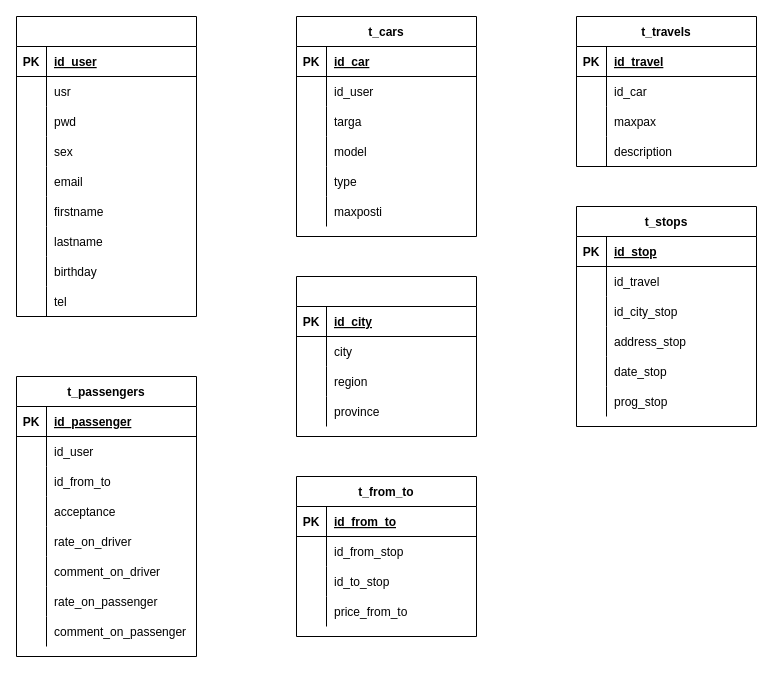
Some shapes in this 773 by 673 pixel diagram are drawn without their labels. The box of each missing label's shape, as (x1, y1, x2, y2) in pixels:
t_cities: (296, 276, 476, 436)
t_users: (16, 16, 196, 316)
